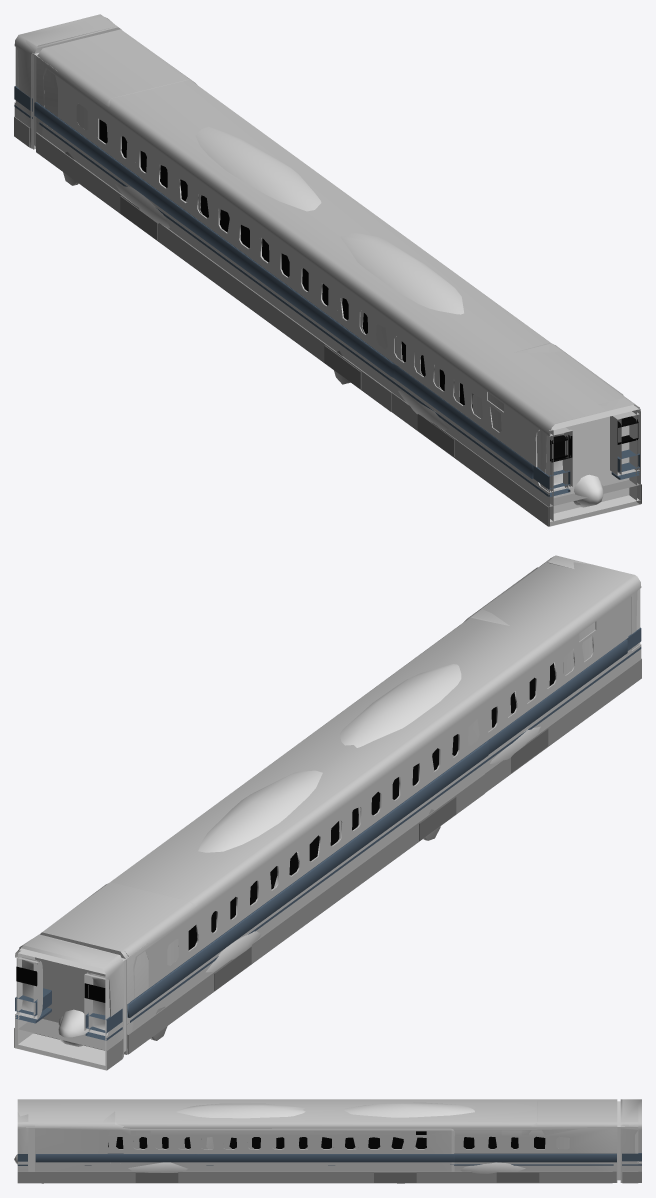
3 views of the same model, one above another, from view 1: azimuth 30°, elevation 25°; view 2: azimuth 150°, elevation 25°; view 3: azimuth 270°, elevation 25° (orthographic). The views are drawn at different scales.
Visible parts, largest first — view 1: car1, car0, car2; view 2: car1, car0, car2; view 3: car2, car1, car0.
Boxes of the visible parts, x1,y1,x2,y2 form: car1: (18,16,639,526); car0: (14,14,603,507); car2: (115,126,641,526); car1: (18,556,641,1057); car0: (14,664,540,1070); car2: (58,555,640,1046); car2: (17,1102,525,1183); car1: (17,1099,638,1183); car0: (14,1099,641,1182).
Size of the model in its own units: 2.63 by 3.06 by 25.29.
